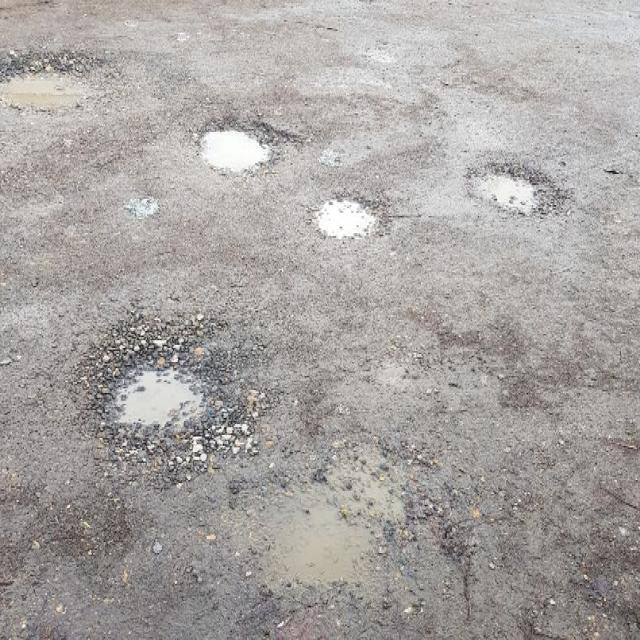Pothole: (77, 302, 242, 456), (0, 36, 106, 115), (464, 149, 566, 225), (193, 106, 278, 173), (307, 181, 385, 246)
